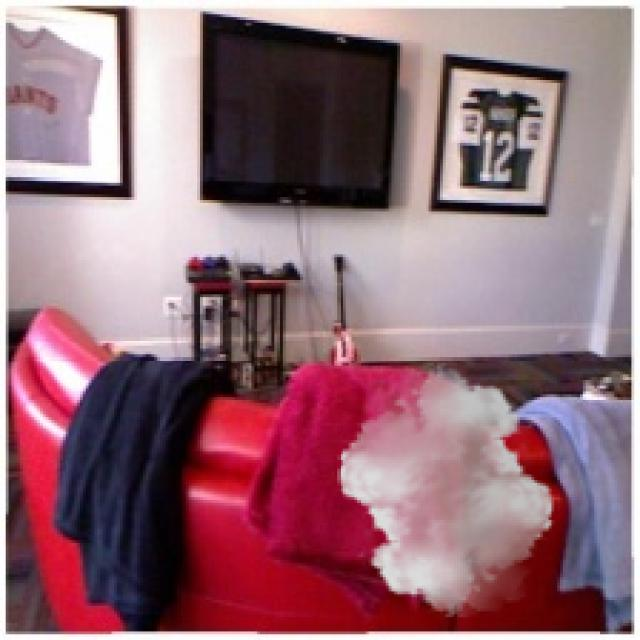smoke: (328, 363, 563, 617)
